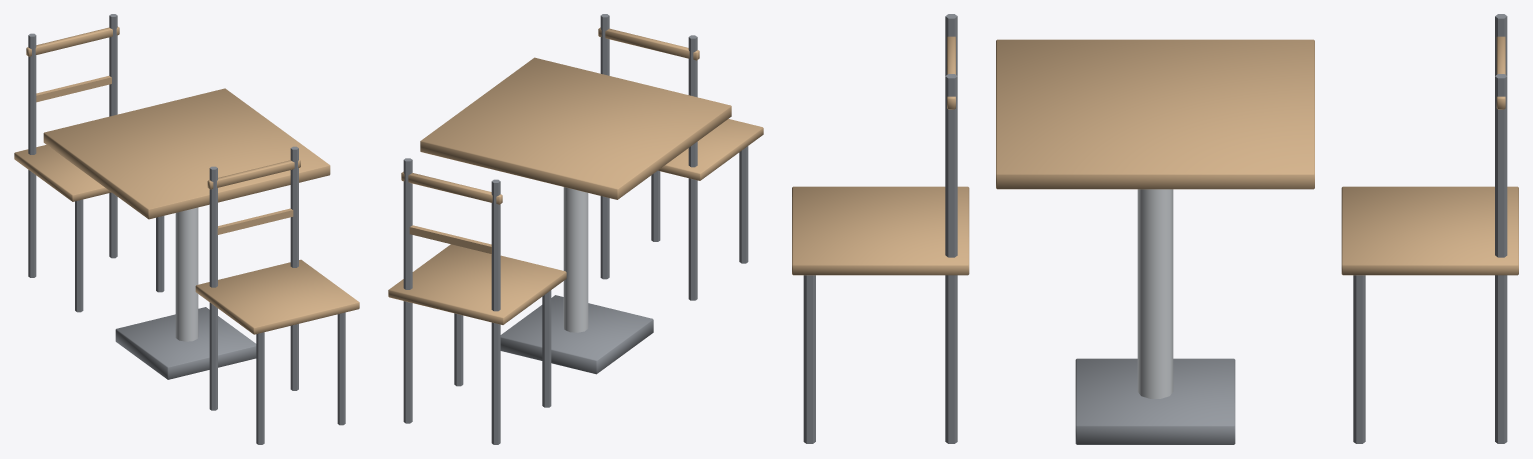
The model's file is CafeSet_Bistro.fbx.
3 views of the same model, side by side, from view 1: azimuth 30°, elevation 25°; view 2: azimuth 150°, elevation 25°; view 3: azimuth 270°, elevation 25° (orthographic). The views are drawn at different scales.
Visible parts, largest first — view 1: LOD0; view 2: LOD0; view 3: LOD0.
Part boxes in pixels (box(x1,y1,x2,y2)): LOD0: box(14, 14, 359, 444); LOD0: box(388, 14, 763, 444); LOD0: box(792, 14, 1518, 444).
Size of what is drawn, in the model's own units: 72 by 91 by 164.
